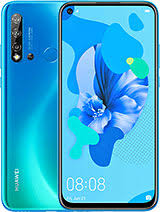huawei: (57, 1, 158, 211), (1, 1, 60, 211)
